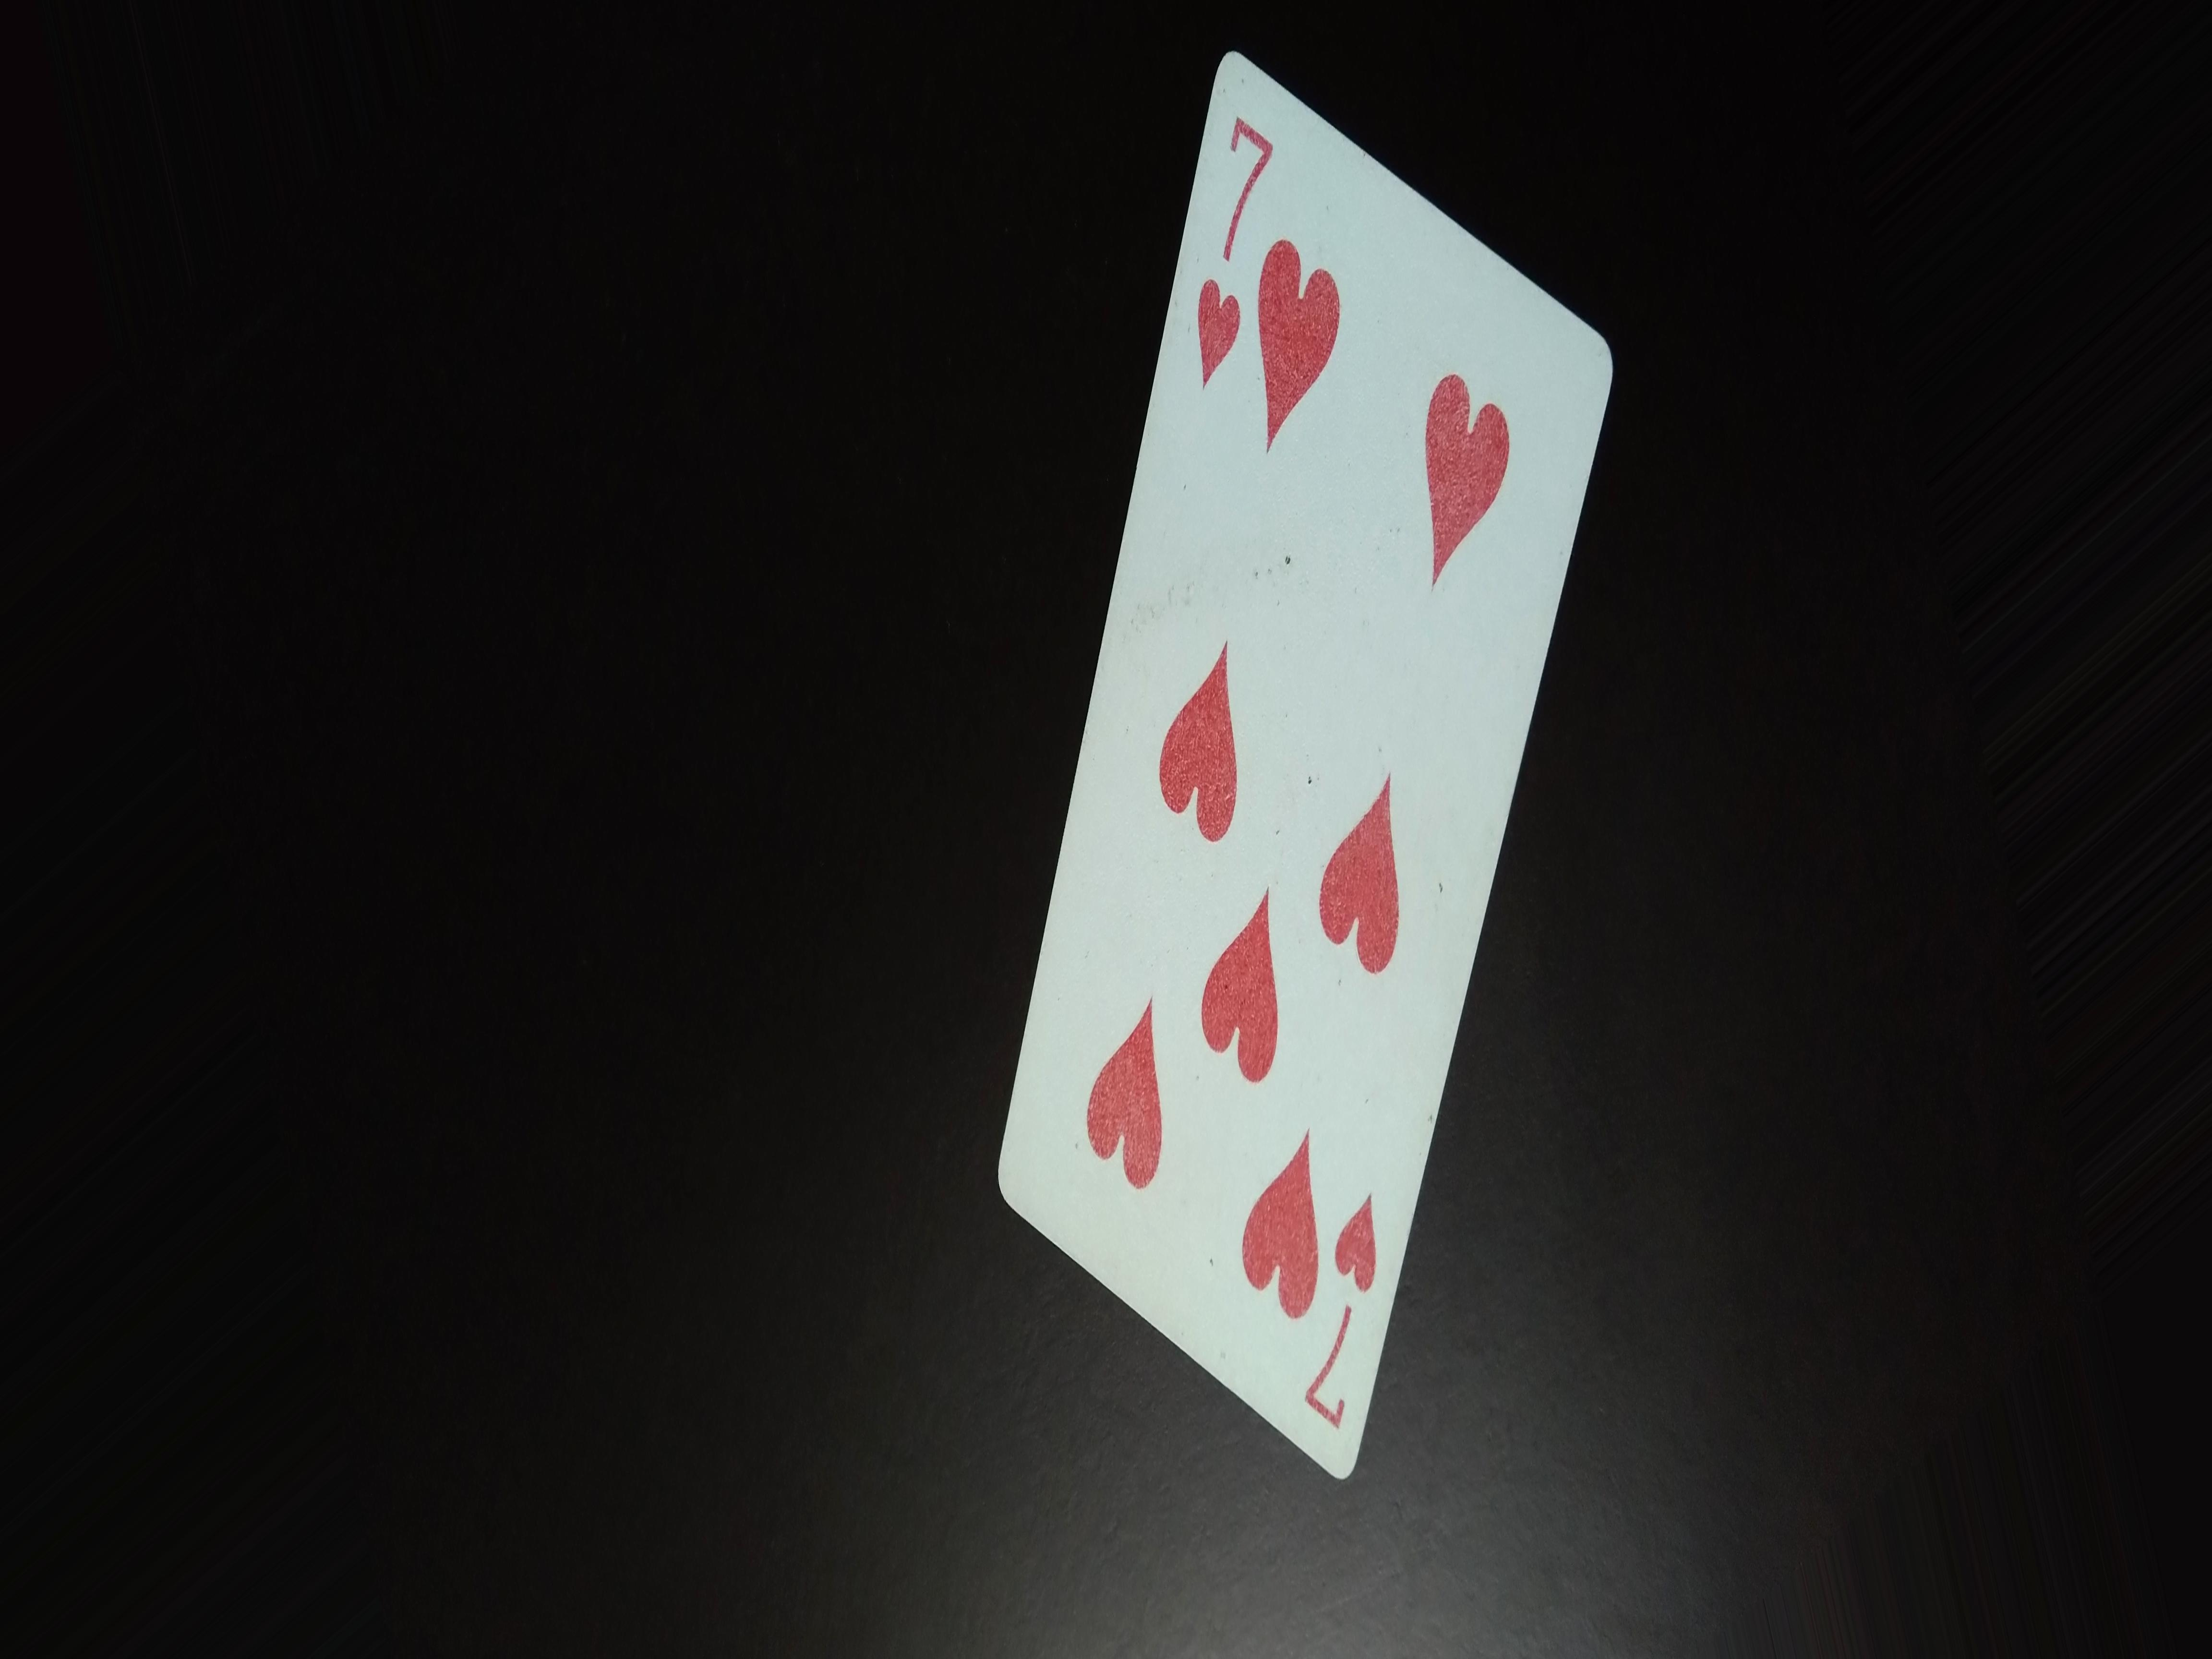7H: (1197, 113, 1275, 422)
